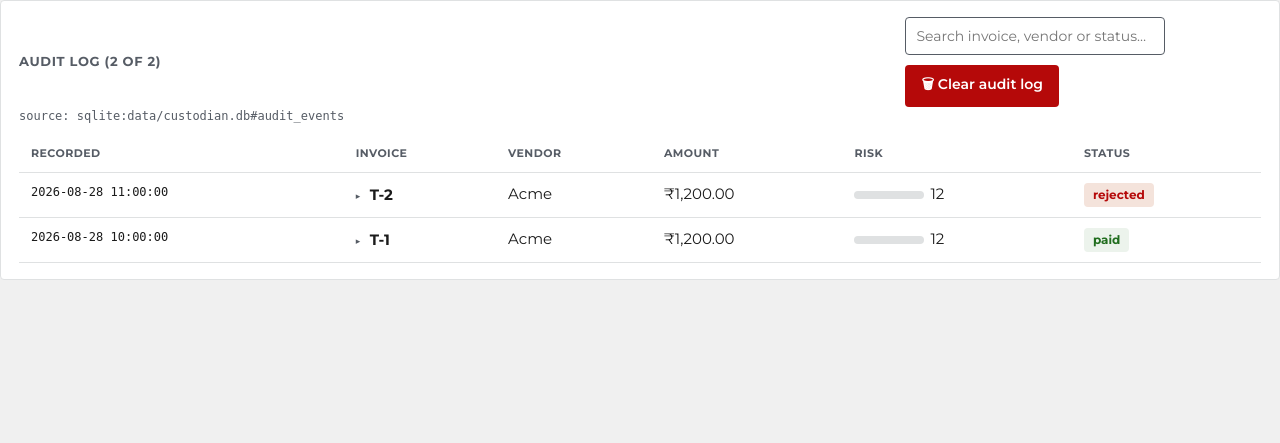
Audit › expands an entry to show the trail recorded at that moment
Check: the text "Risk scored 12" is not shown
Click the text "T-2" at (381, 195), box [370,184,393,206]
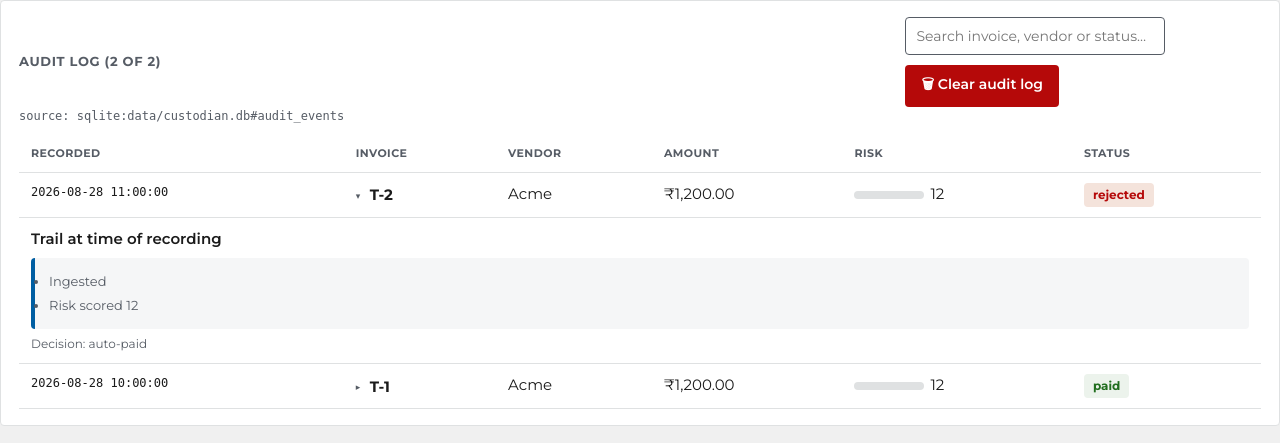
Check: the list item "Risk scored 12" is shown, box [49,296,138,312]
